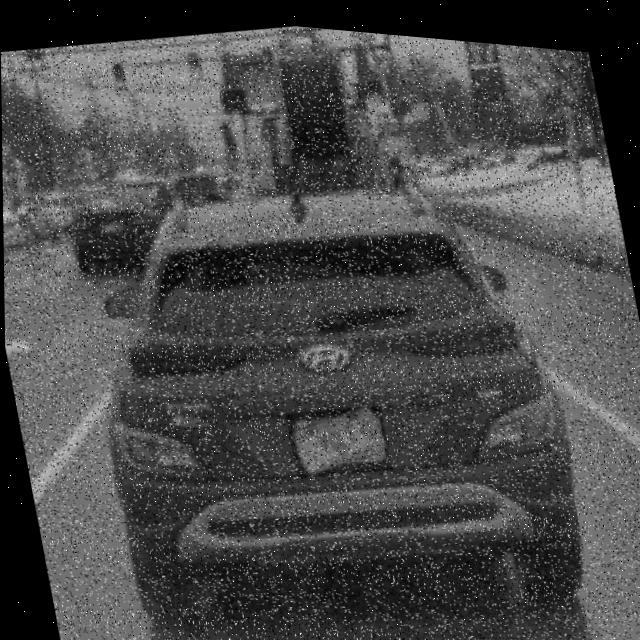LicensePlate: (288, 399, 387, 471)
